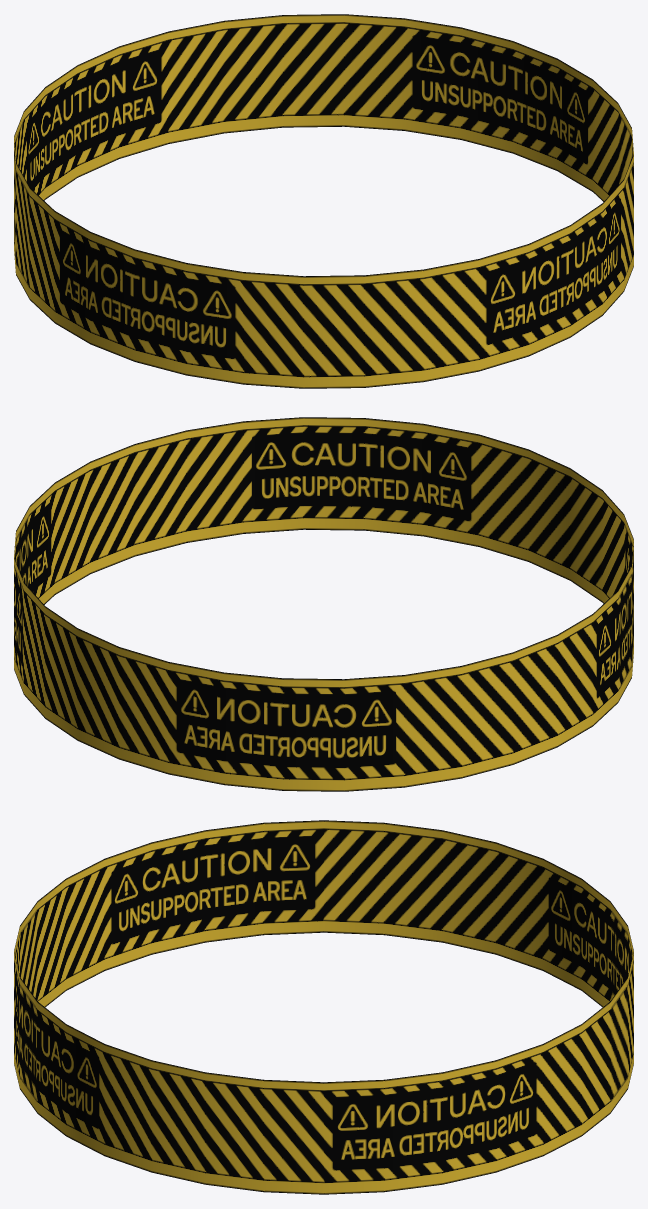
The model's file is CautionCylinder.fbx.
3 renders of one model, top to bottom at view 1: azimuth 30°, elevation 25°; view 2: azimuth 150°, elevation 25°; view 3: azimuth 270°, elevation 25°, orthographic.
Parts seen in each view (by area): view 1: CautionCylinder_dual; view 2: CautionCylinder_dual; view 3: CautionCylinder_dual.
Part boxes in pixels (<box>): CautionCylinder_dual: <box>14,14,633,388</box>; CautionCylinder_dual: <box>14,417,633,791</box>; CautionCylinder_dual: <box>14,820,633,1194</box>.
Bounding box in the file's own units: 100 × 20 × 100.
